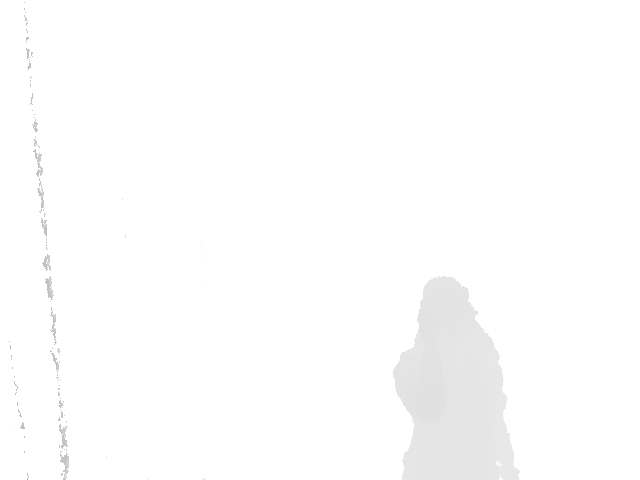head: (419, 276, 477, 362)
person: (392, 274, 520, 480)
